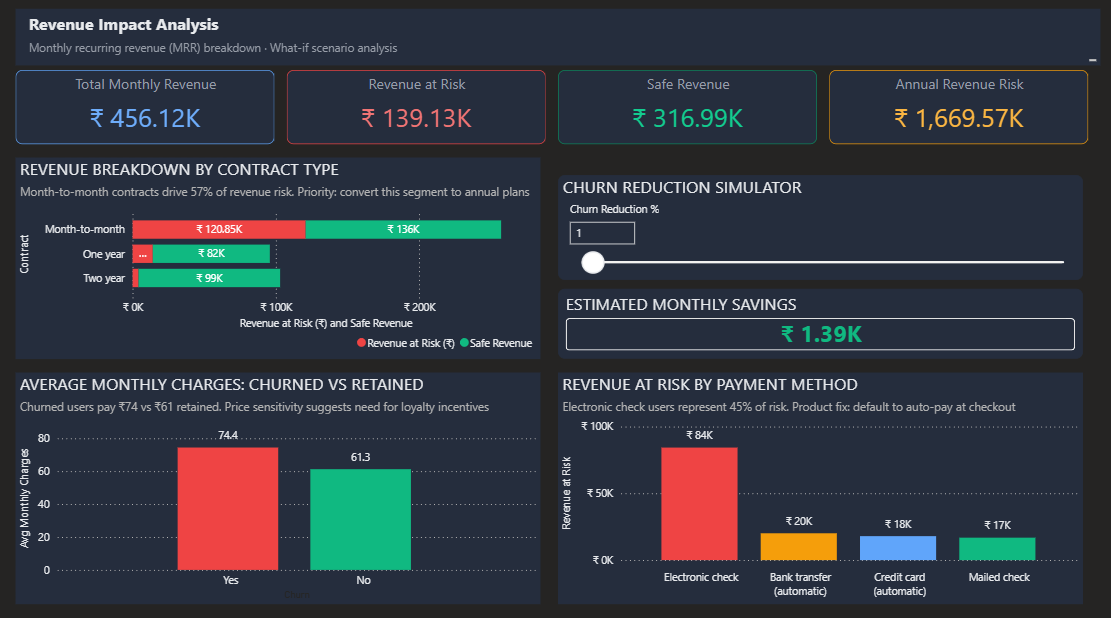

This screenshot's page, from the dashboard's own definition file:
{"tool":"powerbi","page":{"name":"Revenue Impact","canvas":[1280,710],"ordinal":2},"visuals":[{"type":"textbox","title":"Revenue Impact Analysis","box":[20,10,1240,65],"z":0},{"type":"kpi","title":"Total Monthly Revenue ","fields":{"Indicator":["Table.Total Monthly Revenue (₹)"],"TrendLine":["Table.Value"]},"box":[20,80,296,85],"z":1000},{"type":"kpi","title":"Revenue at Risk ","fields":{"TrendLine":["Table.Value"],"Indicator":["Table.Revenue at Risk (₹)"]},"box":[330,80,296,85],"z":2000},{"type":"kpi","title":"Safe Revenue ","fields":{"Indicator":["Table.Safe Revenue"],"TrendLine":["Table.Value"]},"box":[640,80,296,85],"z":3000},{"type":"kpi","title":"Annual Revenue Risk ","fields":{"Indicator":["Table.Annual Revenue Risk"],"TrendLine":["Table.Value"]},"box":[950,80,296,85],"z":4000},{"type":"barChart","title":"REVENUE BREAKDOWN BY CONTRACT TYPE","fields":{"Category":["01_contract_churn.Contract"],"Y":["Table.Revenue at Risk (₹)","Table.Safe Revenue"]},"box":[20,180,600,230],"z":6000},{"type":"slicer","title":"CHURN REDUCTION SIMULATOR","fields":{"Values":["Churn Reduction %.Churn Reduction %"]},"box":[640,200,600,120],"z":7000},{"type":"cardVisual","title":"ESTIMATED MONTHLY SAVINGS","fields":{"Data":["00_raw_customer_data.Monthly Savings"]},"box":[640,330,600,80],"z":8000},{"type":"clusteredColumnChart","title":"AVERAGE MONTHLY CHARGES: CHURNED VS RETAINED","fields":{"Category":["00_raw_customer_data.Churn"],"Y":["Table.Avg Monthly Charges"]},"box":[20,425,600,265],"z":9000},{"type":"clusteredColumnChart","title":"REVENUE AT RISK BY PAYMENT METHOD","fields":{"Category":["03_payment_churn.PaymentMethod"],"Y":["Table.Revenue at Risk (₹)"]},"box":[640,425,600,265],"z":11000}]}

Visuals, with their boxes in screenshot pixels (x1, y1, x2, y2), scaled from the page's 1280x710 canvas onto the 1111x618 screenshot:
"Revenue Impact Analysis" textbox: detection(17, 9, 1094, 65)
"Total Monthly Revenue " kpi: detection(17, 70, 274, 144)
"Revenue at Risk " kpi: detection(286, 70, 543, 144)
"Safe Revenue " kpi: detection(556, 70, 812, 144)
"Annual Revenue Risk " kpi: detection(825, 70, 1081, 144)
"REVENUE BREAKDOWN BY CONTRACT TYPE" barChart: detection(17, 157, 538, 357)
"CHURN REDUCTION SIMULATOR" slicer: detection(556, 174, 1076, 279)
"ESTIMATED MONTHLY SAVINGS" cardVisual: detection(556, 287, 1076, 357)
"AVERAGE MONTHLY CHARGES: CHURNED VS RETAINED" clusteredColumnChart: detection(17, 370, 538, 601)
"REVENUE AT RISK BY PAYMENT METHOD" clusteredColumnChart: detection(556, 370, 1076, 601)
